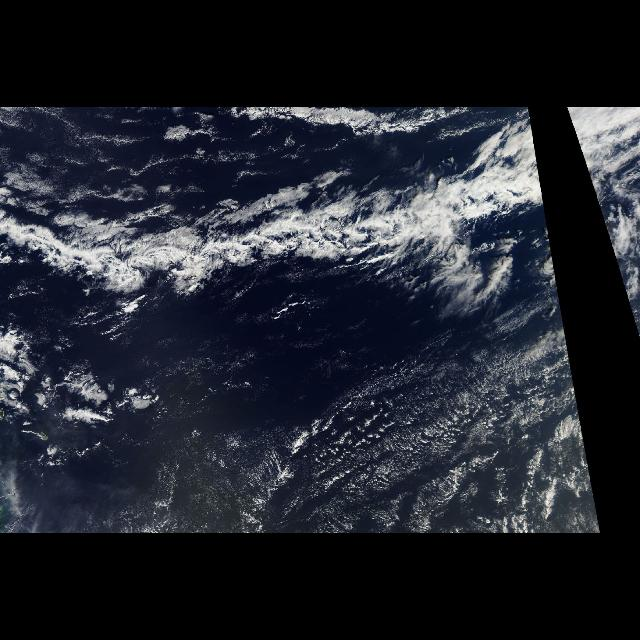Fish: (3, 160, 494, 308)
Gravel: (255, 328, 590, 516)
Sugar: (154, 324, 602, 534)
